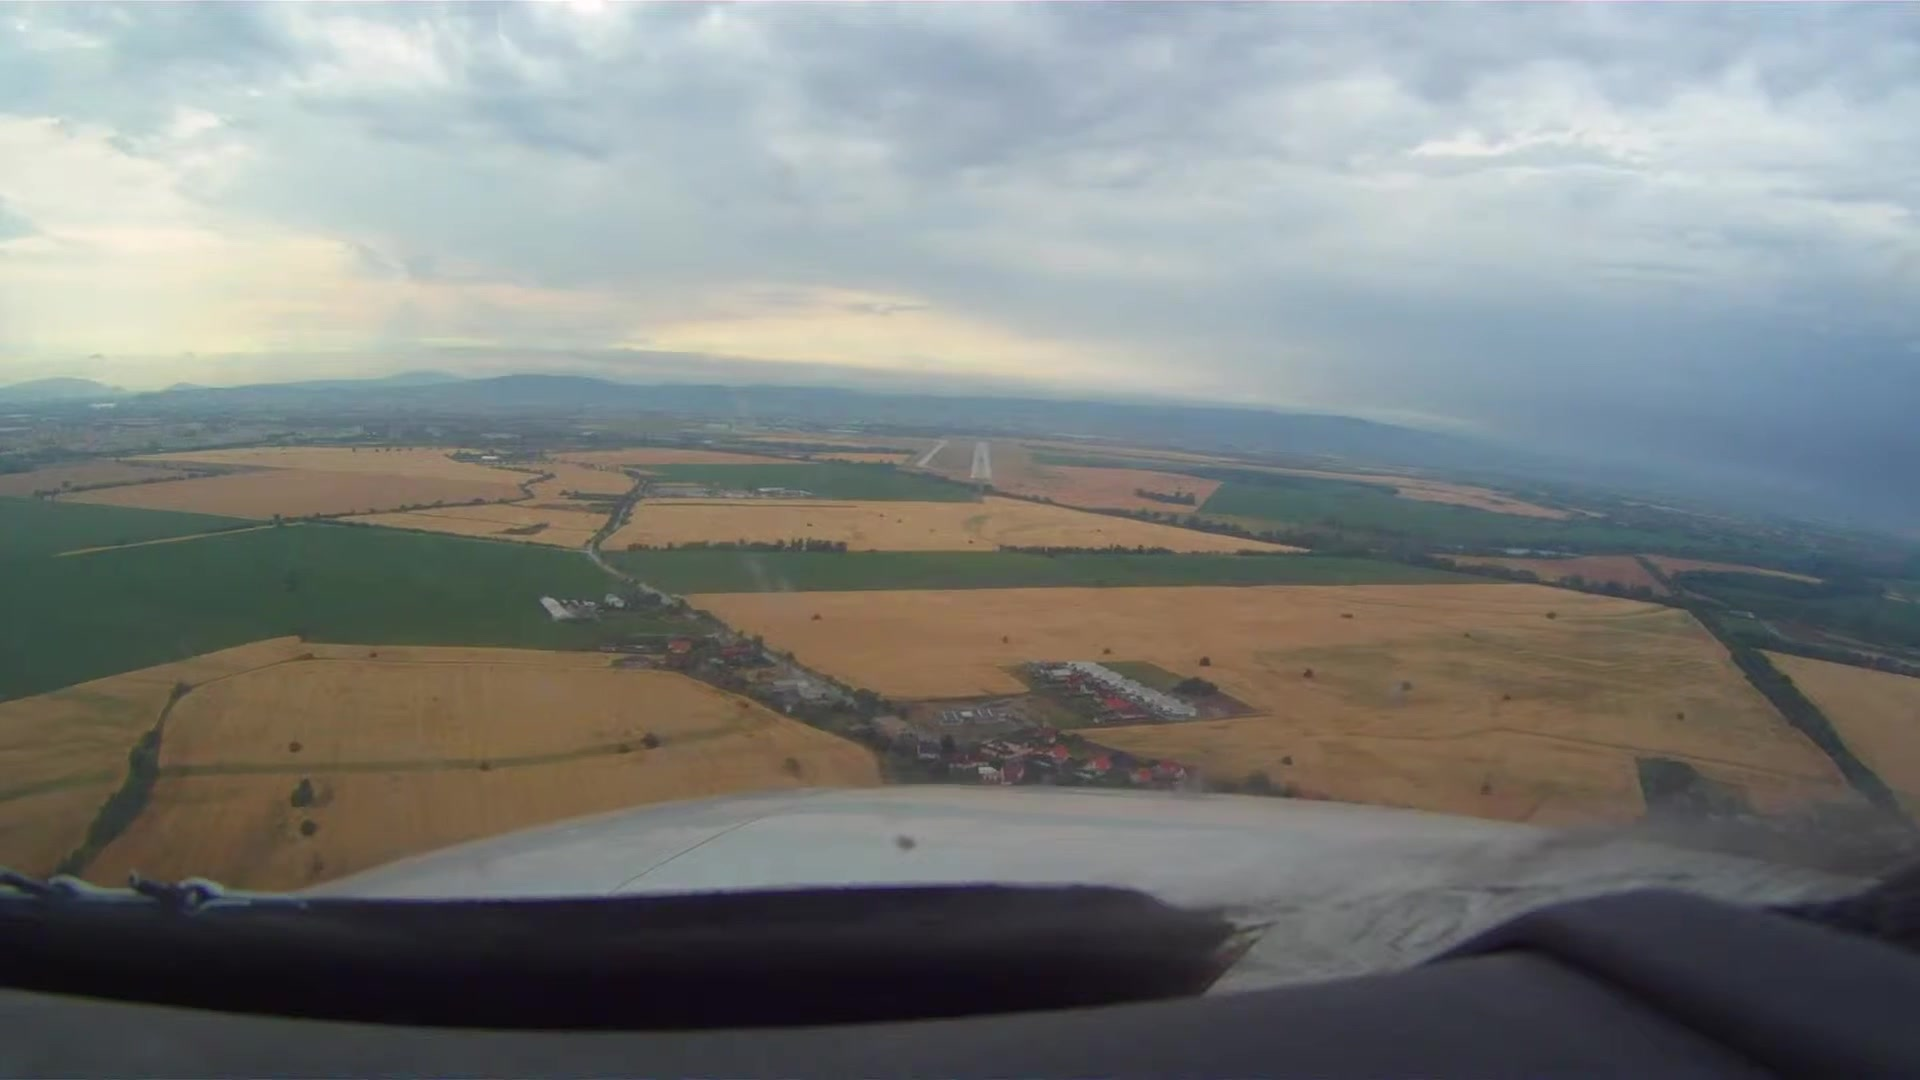runway: (969, 440, 993, 480)
